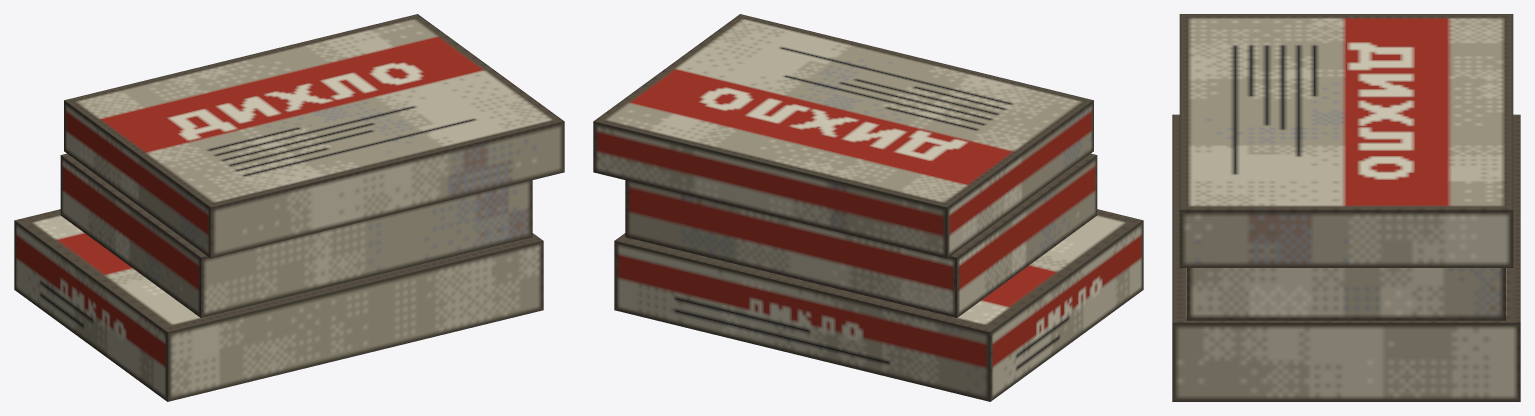
The model's file is SM_Books_01.fbx.
The picture shows the model from 3 angles, left to right: view 1: azimuth 30°, elevation 25°; view 2: azimuth 150°, elevation 25°; view 3: azimuth 270°, elevation 25°; orthographic projection. The views are drawn at different scales.
Visible parts, largest first — view 1: SM_Books_01; view 2: SM_Books_01; view 3: SM_Books_01.
Boxes of the visible parts, box(x1,y1,x2,y2) form: SM_Books_01: box(14, 14, 564, 401); SM_Books_01: box(593, 14, 1143, 401); SM_Books_01: box(1172, 14, 1520, 401).
Size of the model in its own units: 0.181 by 0.078 by 0.12.
1 material, 1 textured.
